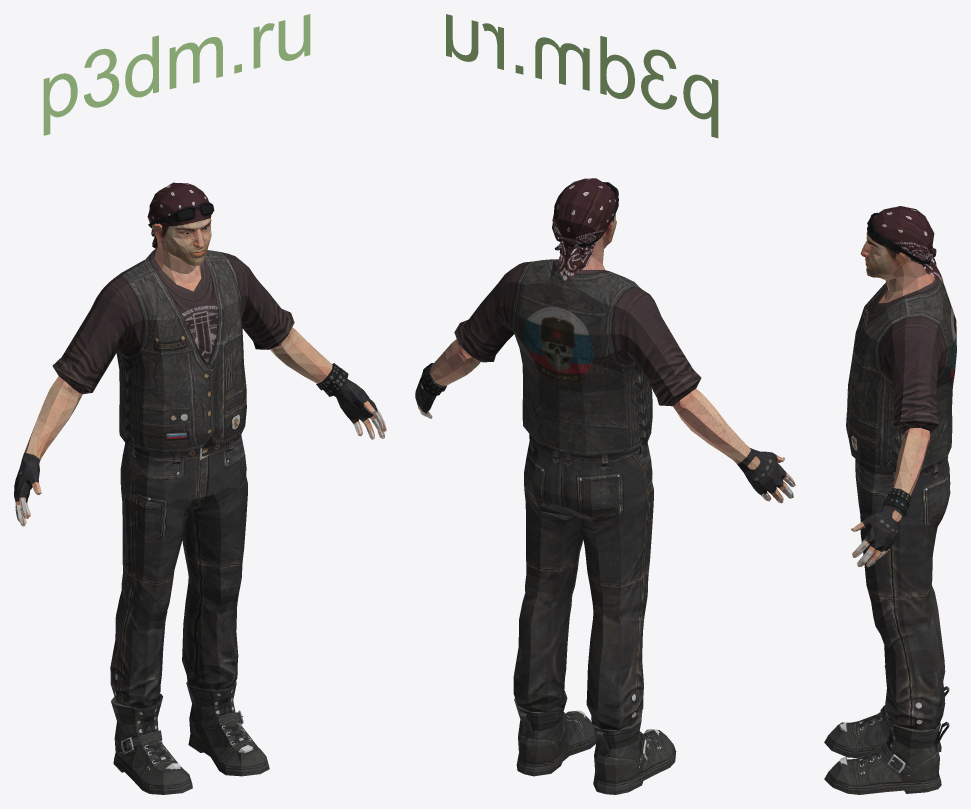
File: p3dm.ru_Russian biker.obj
3 renders of one model, left to right at view 1: azimuth 30°, elevation 25°; view 2: azimuth 150°, elevation 25°; view 3: azimuth 270°, elevation 25°, orthographic. The views are drawn at different scales.
Parts seen in each view (by area): view 1: Mesh_0112, Mesh_0114, Mesh_0113, Text001, Mesh_0100; view 2: Mesh_0112, Mesh_0114, Text001, Mesh_0113; view 3: Mesh_0112, Mesh_0113, Mesh_0114, Mesh_0100.
Boxes of the visible parts, x1,y1,x2,y2 form: Mesh_0112: (52,248,294,794); Mesh_0114: (14,327,386,526); Mesh_0113: (147,182,214,291); Text001: (43,14,310,135); Mesh_0100: (15,411,386,769); Mesh_0112: (454,259,701,794); Mesh_0114: (415,339,795,502); Text001: (446,14,718,138); Mesh_0113: (552,178,618,280); Mesh_0112: (824,276,956,794); Mesh_0113: (860,206,944,303); Mesh_0114: (852,428,930,566); Mesh_0100: (839,528,889,764).
Bounding box in the file's own units: 135 × 258 × 43.99.
